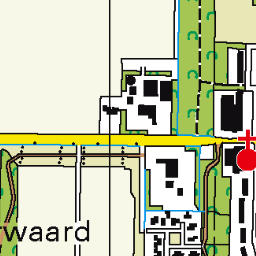church: (229, 125, 256, 174)
